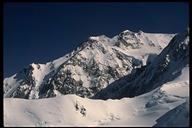mountain: (4, 24, 190, 124)
sky: (10, 7, 58, 56)
snow: (9, 100, 147, 118)
